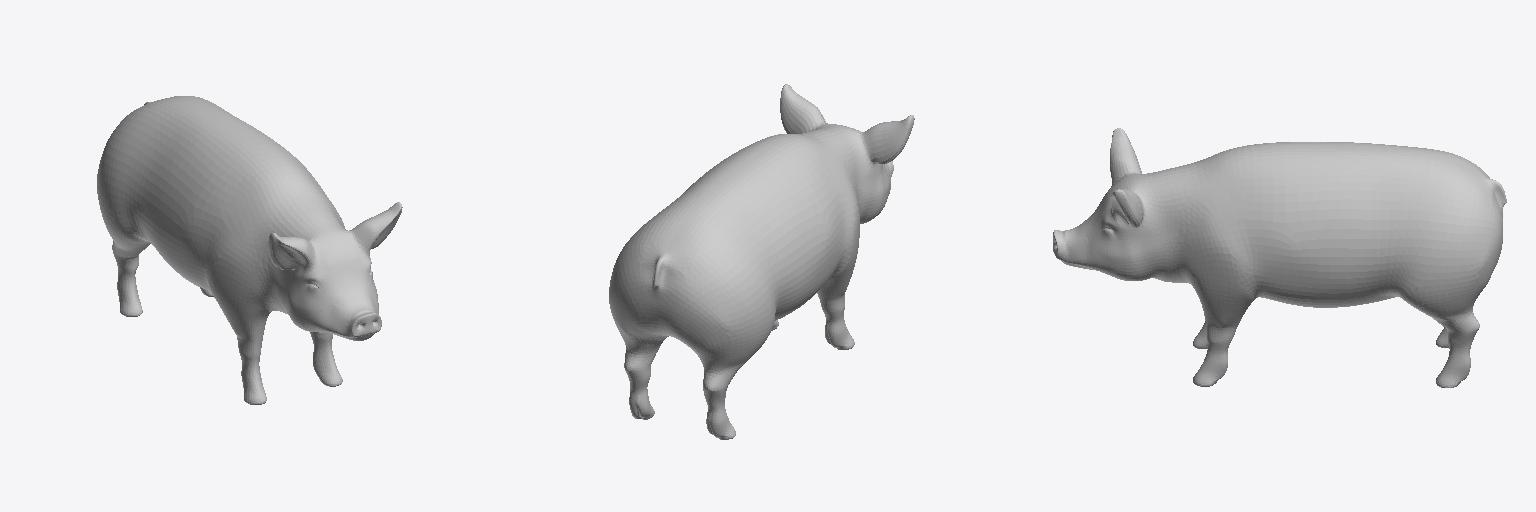
Rendered from kuti_pig.obj.
3 views of the same model, side by side, from view 1: azimuth 30°, elevation 25°; view 2: azimuth 150°, elevation 25°; view 3: azimuth 270°, elevation 25° (orthographic).
Parts seen in each view (by area): view 1: _pig; view 2: _pig; view 3: _pig.
Boxes of the visible parts, box(x1,y1,x2,y2) form: _pig: box(97, 96, 402, 404); _pig: box(609, 84, 914, 439); _pig: box(1053, 128, 1506, 387).
Size of the model in its own units: 5.36 by 7.64 by 14.41.